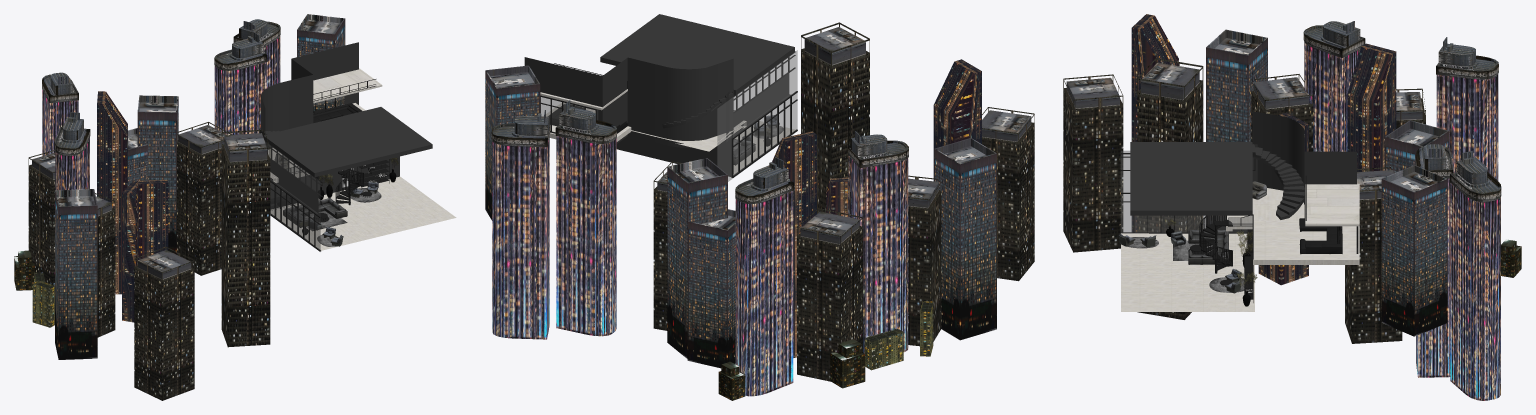
The model's file is home-interior-map.v1.glb.
The picture shows the model from 3 angles, left to right: view 1: azimuth 30°, elevation 25°; view 2: azimuth 150°, elevation 25°; view 3: azimuth 270°, elevation 25°; orthographic projection. The views are drawn at different scales.
Visible parts, largest first — view 1: Cube.047, Cube.040, Cube.042, Cube.008, Cube.062, Plane, Cube.055, Plane.007, Cube.060, Cube.054, Plane.026, Cube.052 (+19 smaller); view 2: Cube.055, Cube.043, Cube.061, Plane.007, Cube.042, Cube.041, Cube.052, Cube.047, Cube.048, Cube.008, Cube.040, Cube.060 (+18 smaller); view 3: Cube.061, Cube.058, Cube.040, Cube.008, Plane, Cube.043, Cube.047, Cube.042, Cube.041, Cube.062, Cube.054, Plane.007 (+15 smaller).
Part boxes in pixels (x1,y1,x2,y2): Cube.047: [221, 129, 270, 347]; Cube.040: [134, 247, 194, 400]; Cube.042: [55, 189, 97, 359]; Cube.008: [263, 107, 432, 177]; Cube.062: [177, 122, 232, 275]; Plane: [270, 176, 456, 250]; Cube.055: [214, 31, 267, 135]; Plane.007: [261, 42, 358, 149]; Cube.060: [137, 95, 178, 254]; Cube.054: [97, 91, 127, 294]; Plane.026: [251, 131, 320, 251]; Cube.052: [28, 150, 55, 285]; Cube.055: [555, 100, 616, 336]; Cube.043: [735, 157, 793, 396]; Cube.061: [491, 110, 550, 339]; Plane.007: [524, 57, 733, 147]; Cube.042: [934, 138, 996, 340]; Cube.041: [848, 131, 908, 353]; Cube.052: [797, 208, 862, 381]; Cube.047: [801, 22, 869, 213]; Cube.048: [687, 209, 735, 368]; Cube.008: [600, 14, 794, 94]; Cube.040: [982, 107, 1034, 281]; Cube.060: [667, 158, 727, 358]; Cube.061: [1450, 151, 1501, 400]; Cube.058: [1381, 165, 1447, 336]; Cube.040: [1063, 74, 1123, 252]; Cube.008: [1130, 142, 1252, 215]; Plane: [1121, 233, 1254, 311]; Cube.043: [1436, 37, 1498, 180]; Cube.047: [1137, 58, 1203, 319]; Cube.042: [1206, 29, 1267, 232]; Cube.041: [1303, 21, 1365, 151]; Cube.062: [1345, 167, 1402, 343]; Cube.054: [1347, 43, 1396, 171]; Plane.007: [1252, 111, 1356, 217].
Size of the model in its own units: 37.19 by 19.26 by 33.93.
25 materials, 19 textured.
